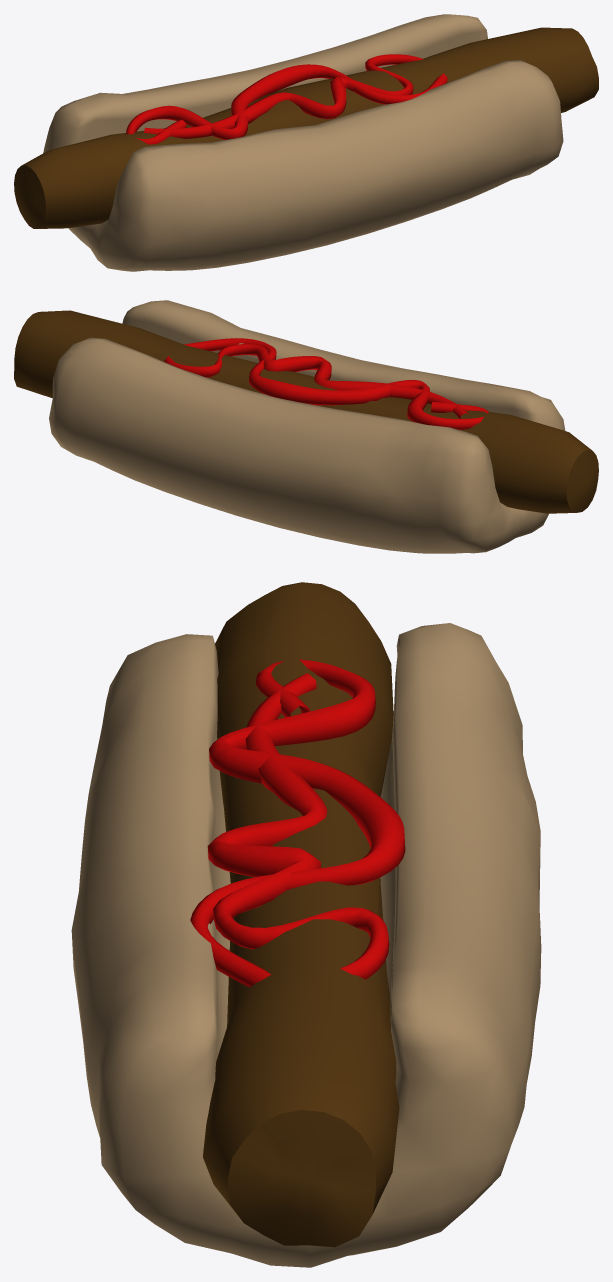
File: fbxHotdog.fbx
The picture shows the model from 3 angles, top to bottom: view 1: azimuth 30°, elevation 25°; view 2: azimuth 150°, elevation 25°; view 3: azimuth 270°, elevation 25°; orthographic projection. The views are drawn at different scales.
Visible parts, largest first — view 1: hotdog; view 2: hotdog; view 3: hotdog.
Part boxes in pixels (left/top/right/bottom): hotdog: left=14, top=14, right=598, bottom=271; hotdog: left=14, top=300, right=598, bottom=553; hotdog: left=71, top=582, right=541, bottom=1267.
Size of the model in its own units: 6.01 by 1.55 by 2.17.
